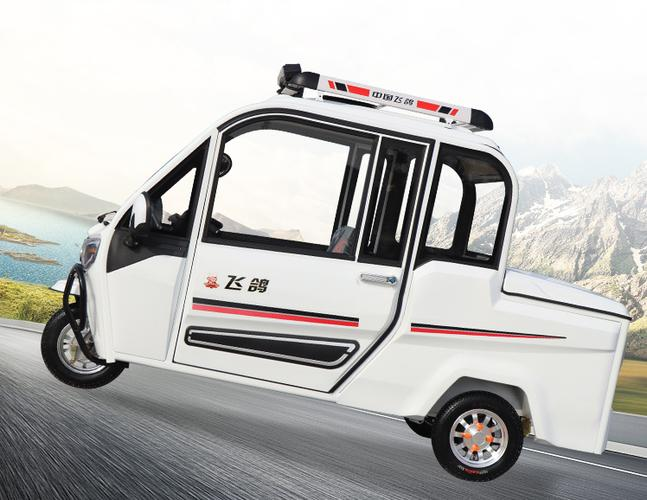empty: (29, 42, 640, 496)
